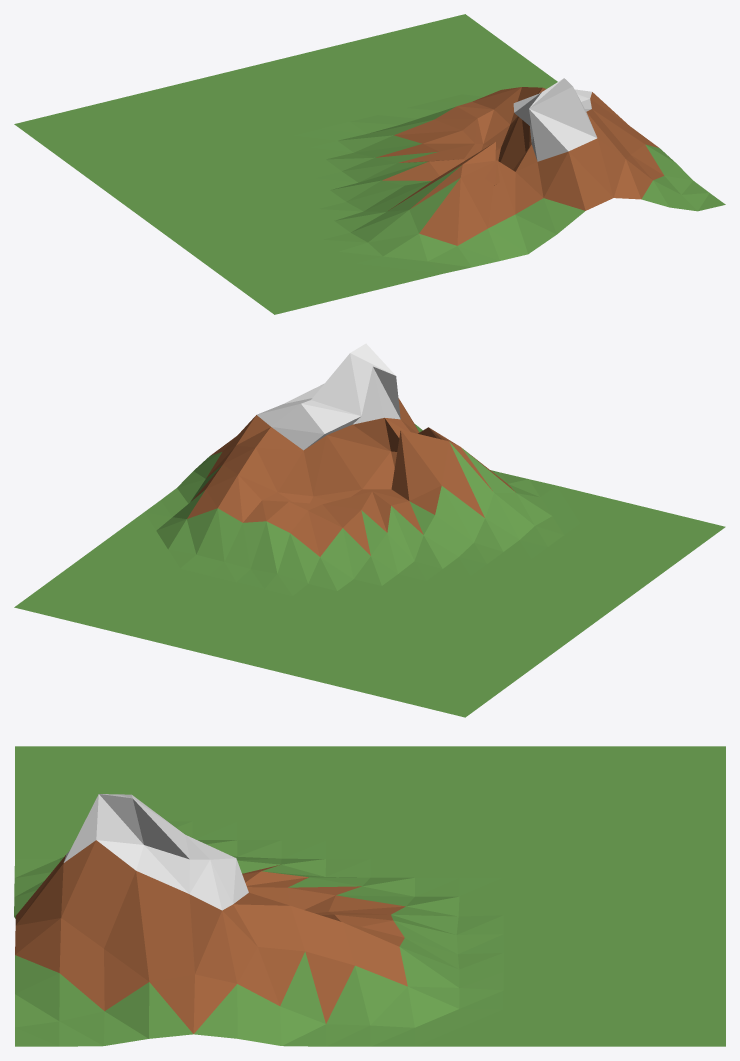
Rendered from mountain.gltf.
3 renders of one model, top to bottom at view 1: azimuth 30°, elevation 25°; view 2: azimuth 150°, elevation 25°; view 3: azimuth 270°, elevation 25°, orthographic. The views are drawn at different scales.
Parts seen in each view (by area): view 1: Plane; view 2: Plane; view 3: Plane.
Part boxes in pixels (bbox=[...]): Plane: bbox=[14, 14, 725, 314]; Plane: bbox=[14, 343, 725, 717]; Plane: bbox=[14, 746, 725, 1046].
Bounding box in the file's own units: 14.72 × 3.95 × 14.74.
